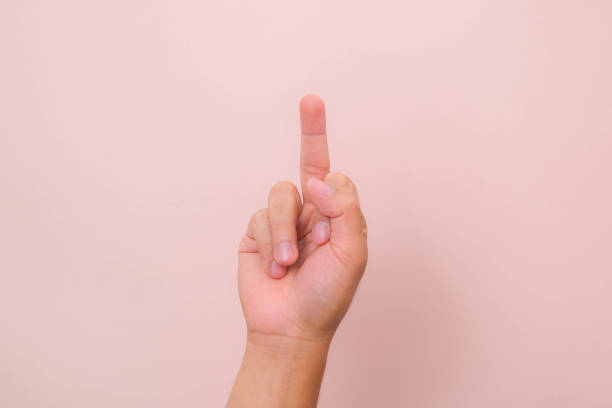insulting_gesture: (236, 89, 369, 336)
